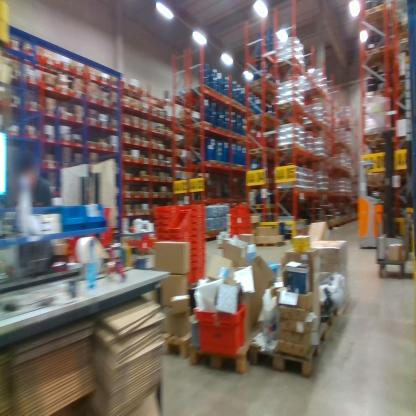forklift: (356, 119, 397, 254)
pallet: (191, 308, 285, 383), (248, 317, 333, 382), (157, 308, 215, 370), (308, 286, 359, 333), (245, 73, 277, 99), (250, 236, 286, 255), (244, 109, 276, 129), (246, 141, 274, 162), (248, 47, 273, 70), (248, 200, 273, 214)
small_load_carrier: (166, 209, 190, 234), (65, 245, 86, 269), (100, 227, 116, 252), (190, 262, 209, 282), (133, 234, 150, 255), (153, 202, 184, 212), (181, 263, 195, 284), (95, 208, 115, 222), (167, 232, 191, 243), (153, 212, 184, 220), (237, 217, 257, 229), (237, 206, 254, 220), (154, 233, 172, 244), (191, 254, 208, 265), (190, 199, 204, 210), (239, 229, 256, 238), (153, 220, 172, 228), (190, 208, 206, 217), (190, 229, 206, 237), (189, 249, 207, 256), (227, 206, 238, 217), (227, 226, 236, 239), (189, 242, 208, 248), (191, 217, 206, 224), (190, 237, 208, 242), (154, 228, 172, 233), (227, 217, 237, 226), (191, 224, 205, 229)
